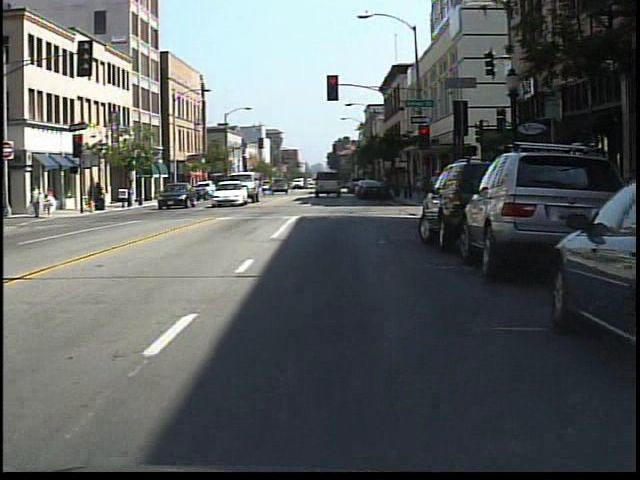person: (27, 182, 45, 222), (42, 186, 60, 220)
